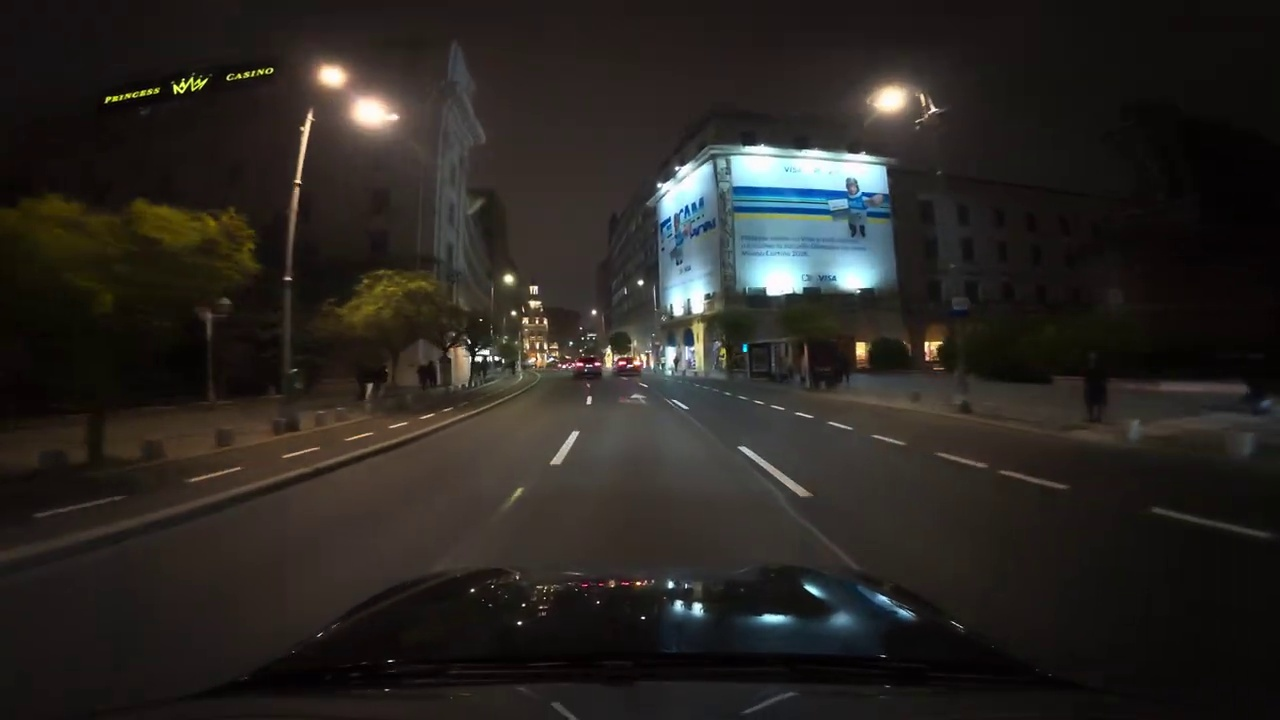acesa: (352, 98, 391, 128), (873, 85, 907, 115), (316, 63, 348, 90), (499, 269, 518, 291)
